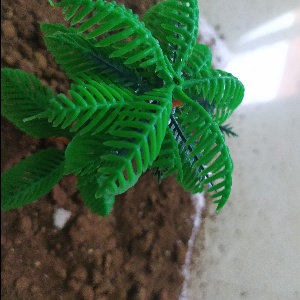plant: (1, 1, 243, 214)
